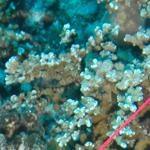alive: (5, 8, 146, 146)
